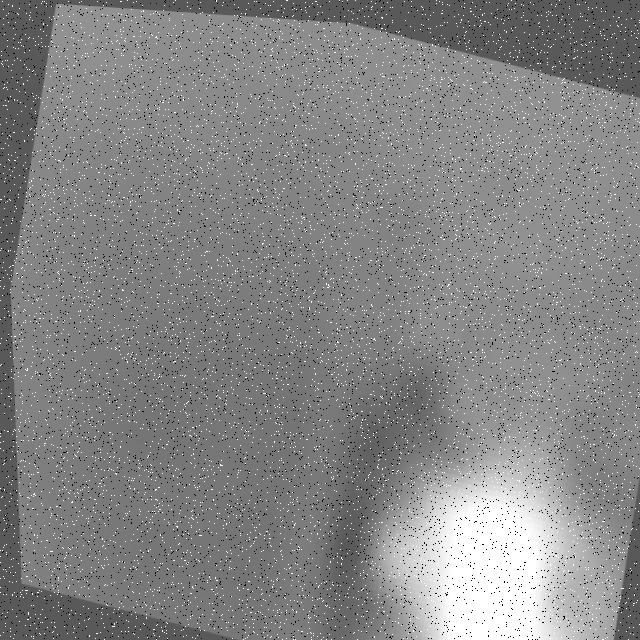person: (363, 363, 640, 640)
